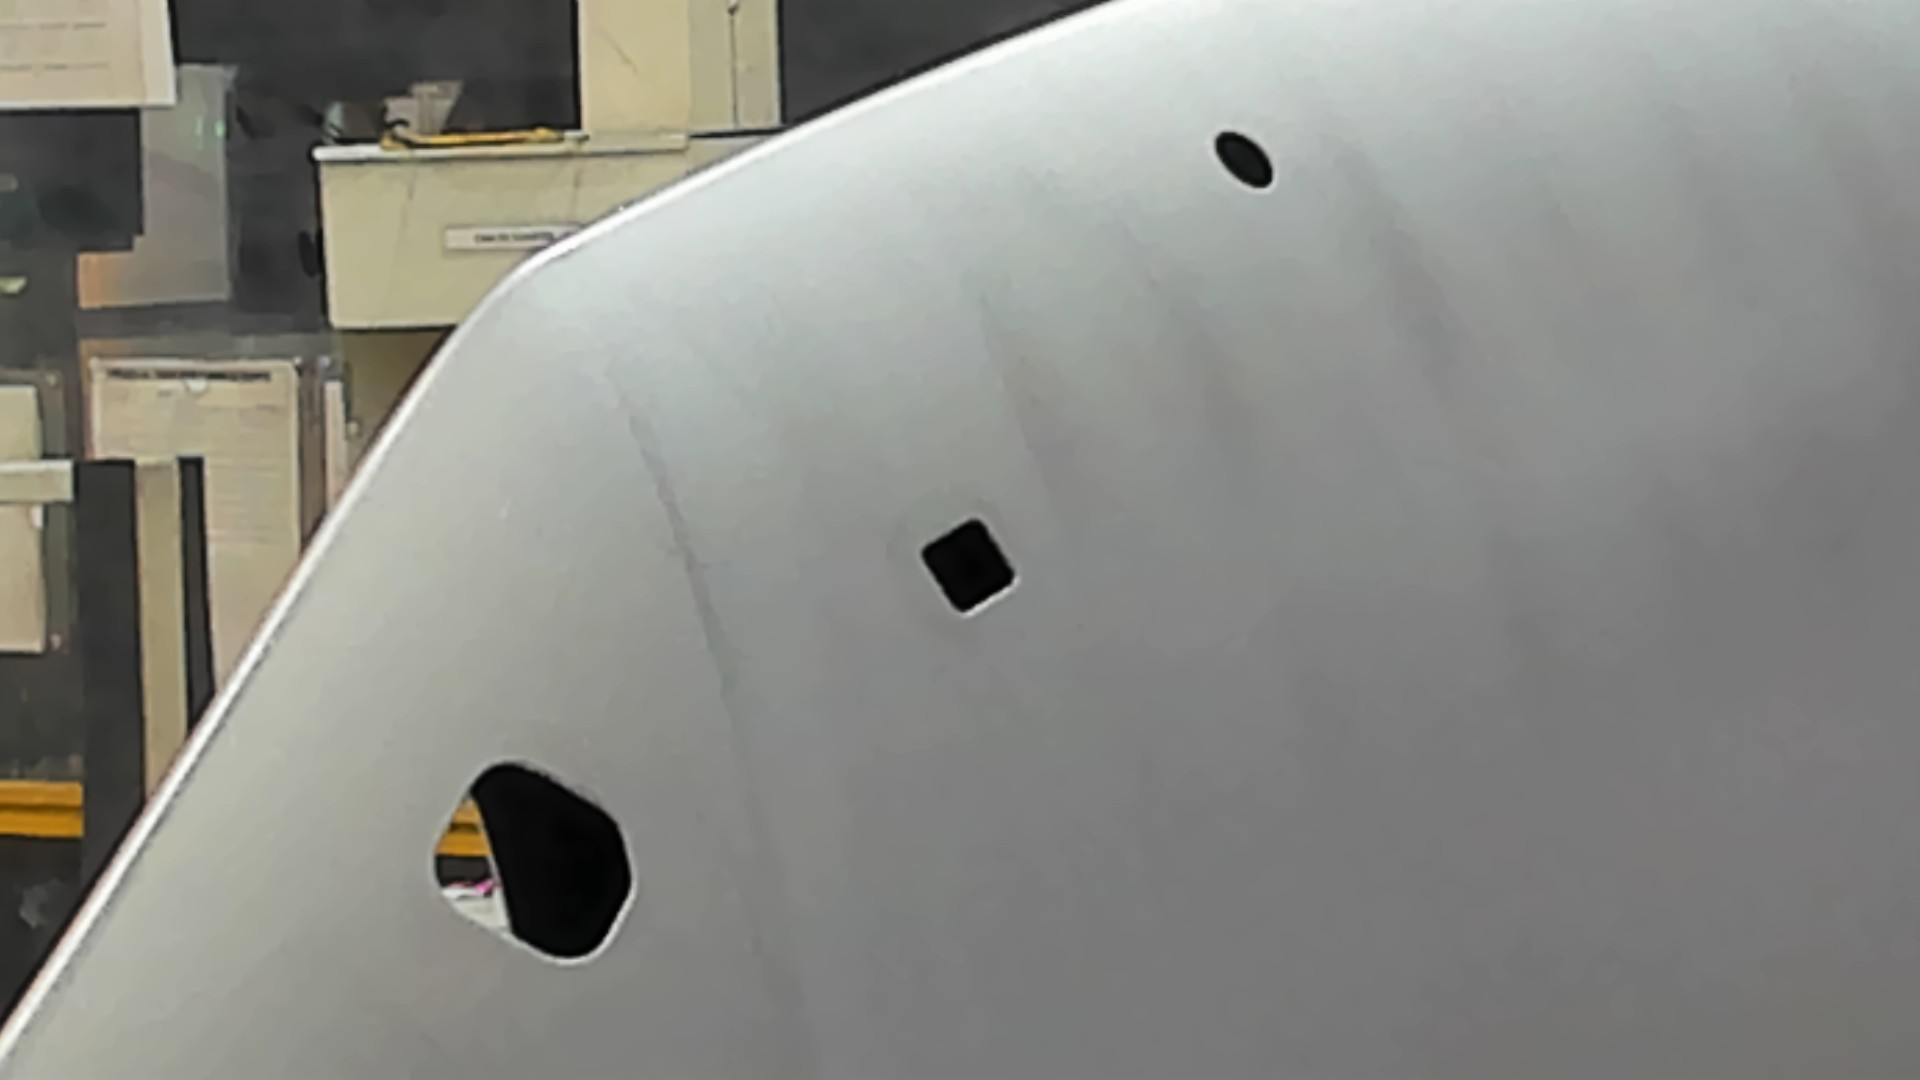Agujero: (916, 516, 1019, 618), (1213, 129, 1276, 191)
Agujerote: (431, 760, 637, 967)
